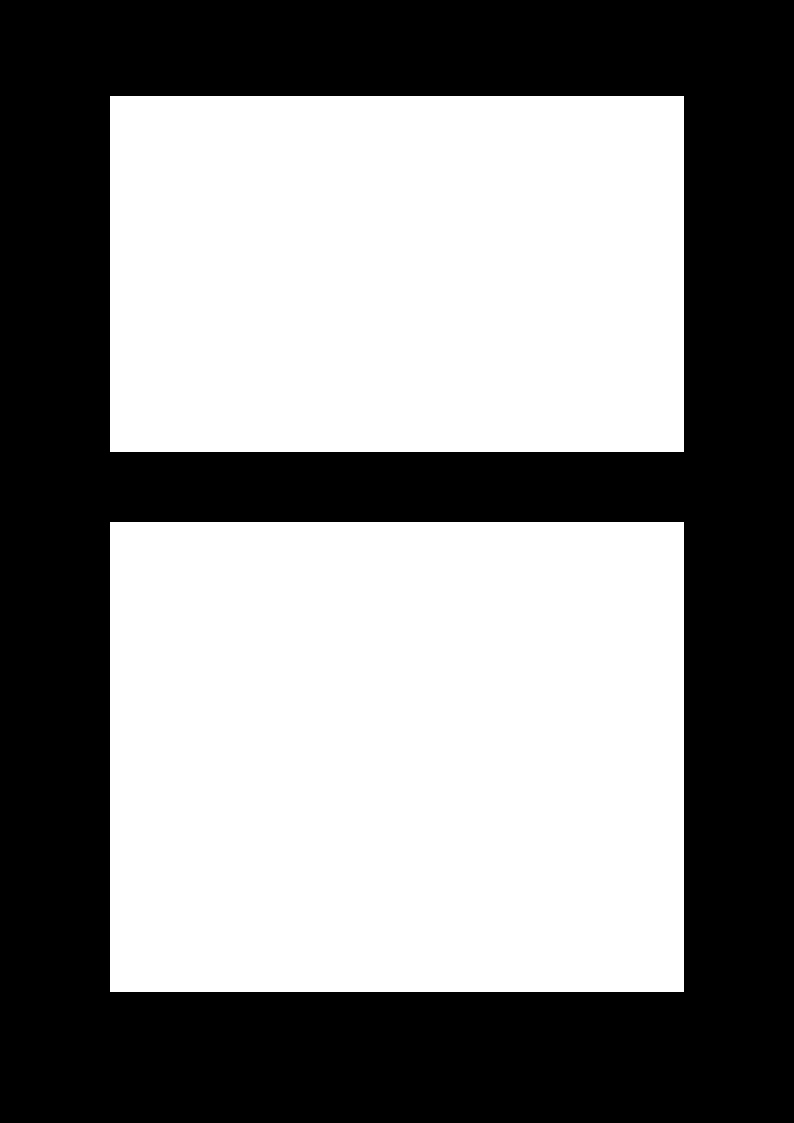table: (110, 522, 683, 991), (110, 96, 683, 451)
